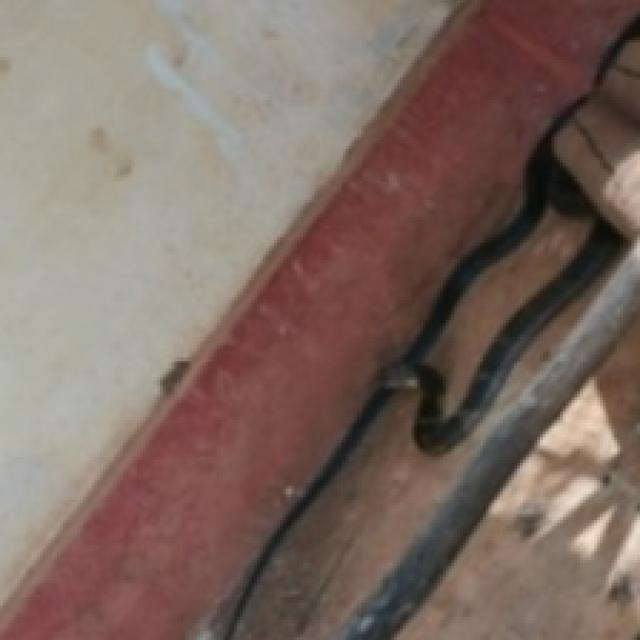king cobra: (200, 0, 637, 554)
